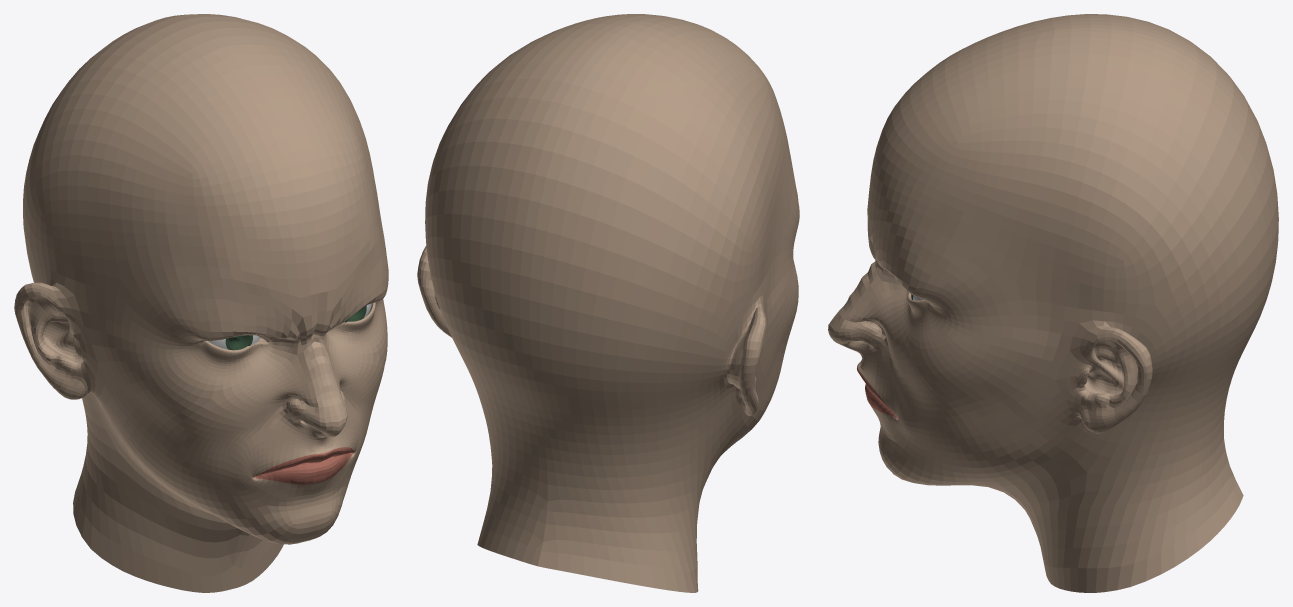
File: demoHead_angry (1).fbx
3 views of the same model, side by side, from view 1: azimuth 30°, elevation 25°; view 2: azimuth 150°, elevation 25°; view 3: azimuth 270°, elevation 25° (orthographic). The views are drawn at different scales.
Parts seen in each view (by area): view 1: angry_head; view 2: angry_head; view 3: angry_head.
Boxes of the visible parts, x1,y1,x2,y2 form: angry_head: (14, 14, 388, 592); angry_head: (417, 14, 799, 592); angry_head: (828, 14, 1278, 592).
Bounding box in the file's own units: 1.26 × 1.95 × 1.46.
